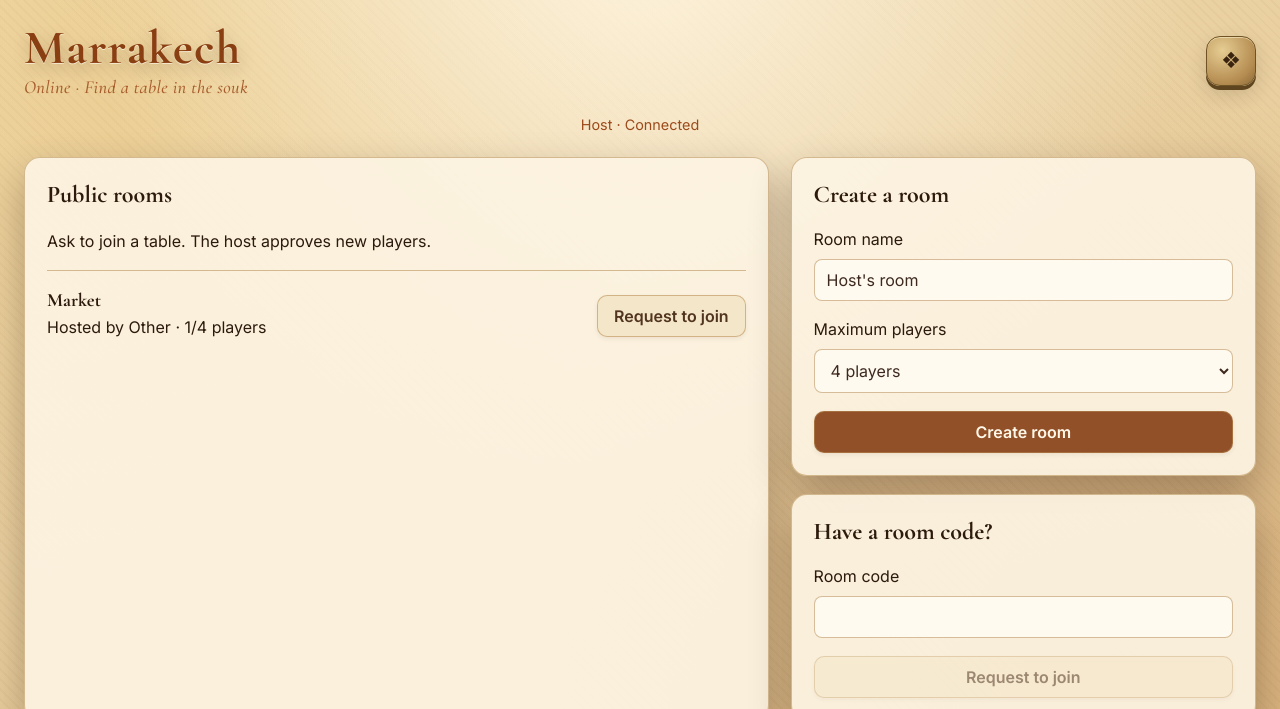
Test case: online screens › preserves the joined room URL when a delayed join response finishes
Click the button "Request to join" in the row of "Other": (671, 316) [597,295,746,337]
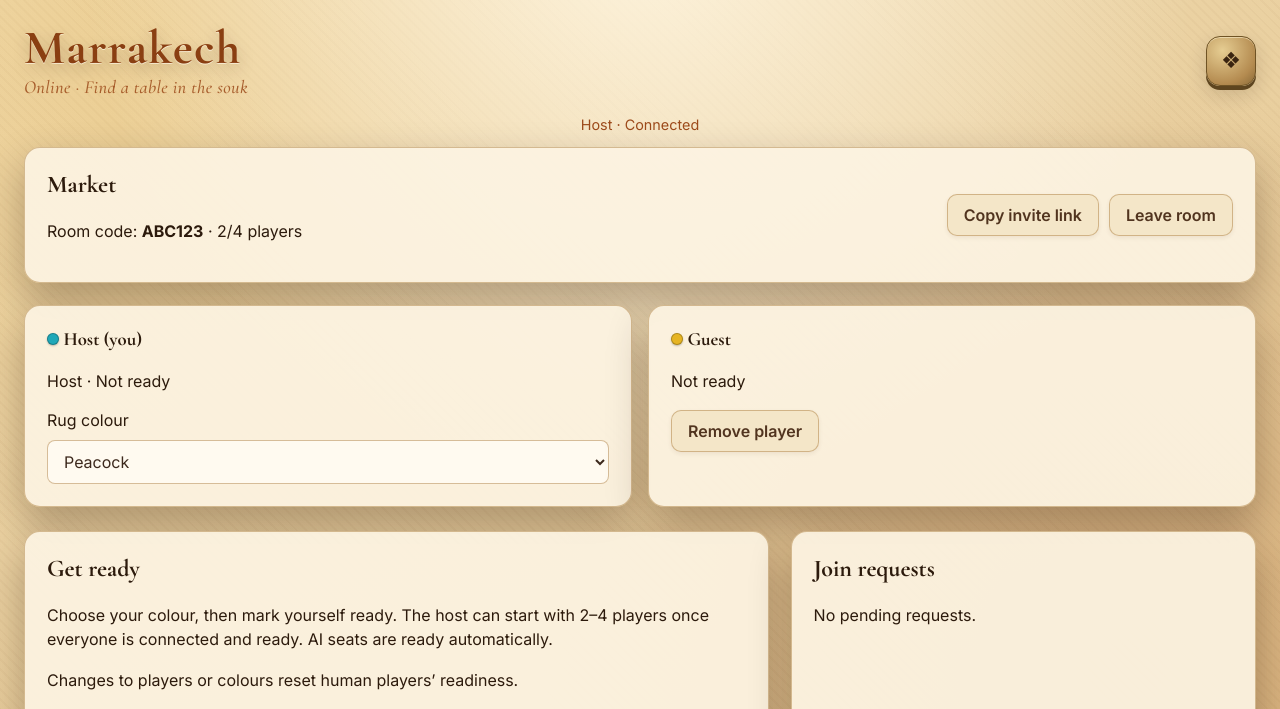
expect the text "ABC123" is shown: met, box [142,221,203,241]
